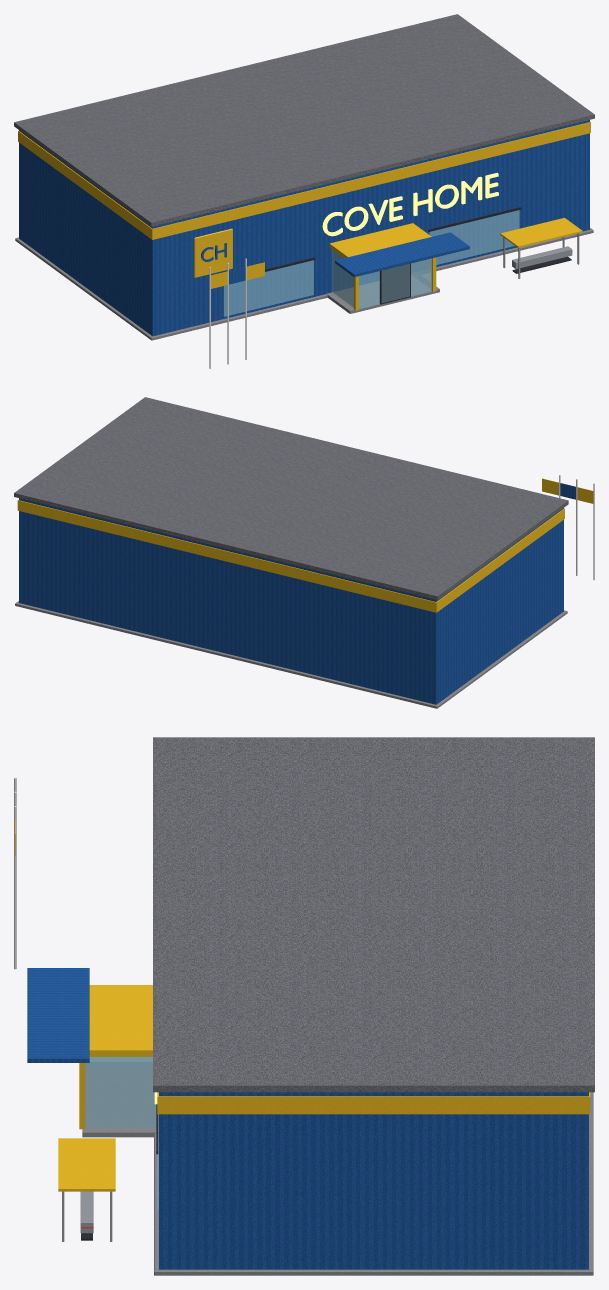
Rendered from exterior.glb.
3 views of the same model, one above another, from view 1: azimuth 30°, elevation 25°; view 2: azimuth 150°, elevation 25°; view 3: azimuth 270°, elevation 25° (orthographic). The views are drawn at different scales.
Parts seen in each view (by area): view 1: EX_Roof, EX_Canopy, EX_Band, EX_DoorPane, EX_Plinth, EX_Cart0, EX_SignText, EX_FlagPole0; view 2: EX_Roof, EX_Canopy, EX_Band, EX_Plinth, EX_FlagPole0; view 3: EX_Roof, EX_Canopy, EX_Band, EX_Plinth, EX_DoorPane, EX_Cart0.
Part boxes in pixels (x1,y1,x2,y2): EX_Roof: [14, 14, 594, 226]; EX_Canopy: [19, 120, 589, 336]; EX_Band: [18, 121, 590, 310]; EX_DoorPane: [223, 210, 519, 316]; EX_Plinth: [15, 228, 593, 340]; EX_Cart0: [265, 207, 579, 304]; EX_SignText: [322, 172, 498, 236]; EX_FlagPole0: [209, 258, 246, 368]; EX_Roof: [14, 397, 568, 600]; EX_Canopy: [19, 483, 575, 704]; EX_Band: [17, 478, 593, 612]; EX_Plinth: [15, 601, 567, 708]; EX_FlagPole0: [559, 475, 594, 580]; EX_Roof: [153, 737, 594, 1092]; EX_Canopy: [15, 805, 588, 1269]; EX_Band: [15, 820, 590, 1191]; EX_Plinth: [82, 1067, 593, 1275]; EX_DoorPane: [85, 1057, 158, 1209]; EX_Cart0: [62, 1104, 158, 1241].
Bounding box in the file's own units: 34.5 × 8.8 × 24.31.
Materials: 10 (9 with a texture image).
